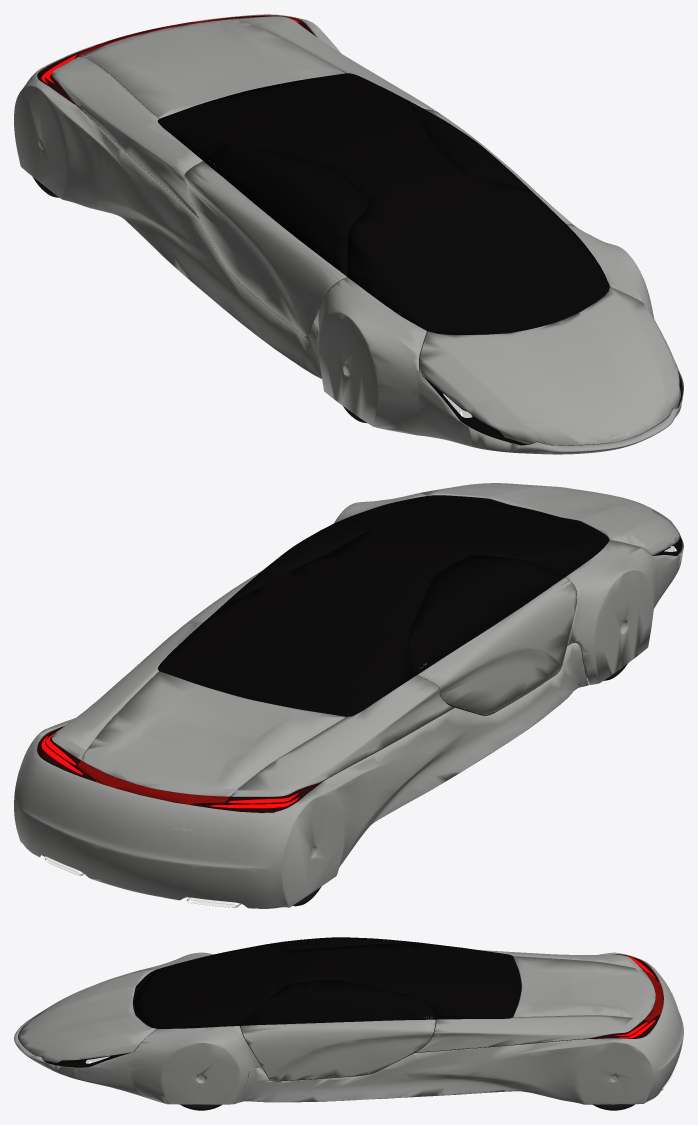
Rendered from car_concept.glb.
The picture shows the model from 3 angles, top to bottom: view 1: azimuth 30°, elevation 25°; view 2: azimuth 150°, elevation 25°; view 3: azimuth 270°, elevation 25°; orthographic projection. The views are drawn at different scales.
Parts seen in each view (by area): view 1: Object_11, Object_3, Object_7, Object_9; view 2: Object_11, Object_3, Object_7, Object_4; view 3: Object_11, Object_3, Object_7, Object_18, Object_9, Object_4.
Boxes of the visible parts, x1,y1,x2,y2 form: Object_11: (14,14,683,454); Object_3: (37,15,682,445); Object_7: (52,66,672,445); Object_9: (423,353,683,445); Object_11: (14,483,683,908); Object_3: (37,496,682,832); Object_7: (43,495,674,856); Object_4: (41,734,299,808); Object_11: (14,950,683,1104); Object_3: (20,937,672,1067); Object_7: (18,968,663,1081); Object_18: (180,1104,634,1110); Object_9: (45,1053,128,1067); Object_4: (615,956,655,1038).
Size of the model in its own units: 1.9 by 1.03 by 5.91.
10 materials, 9 textured.
